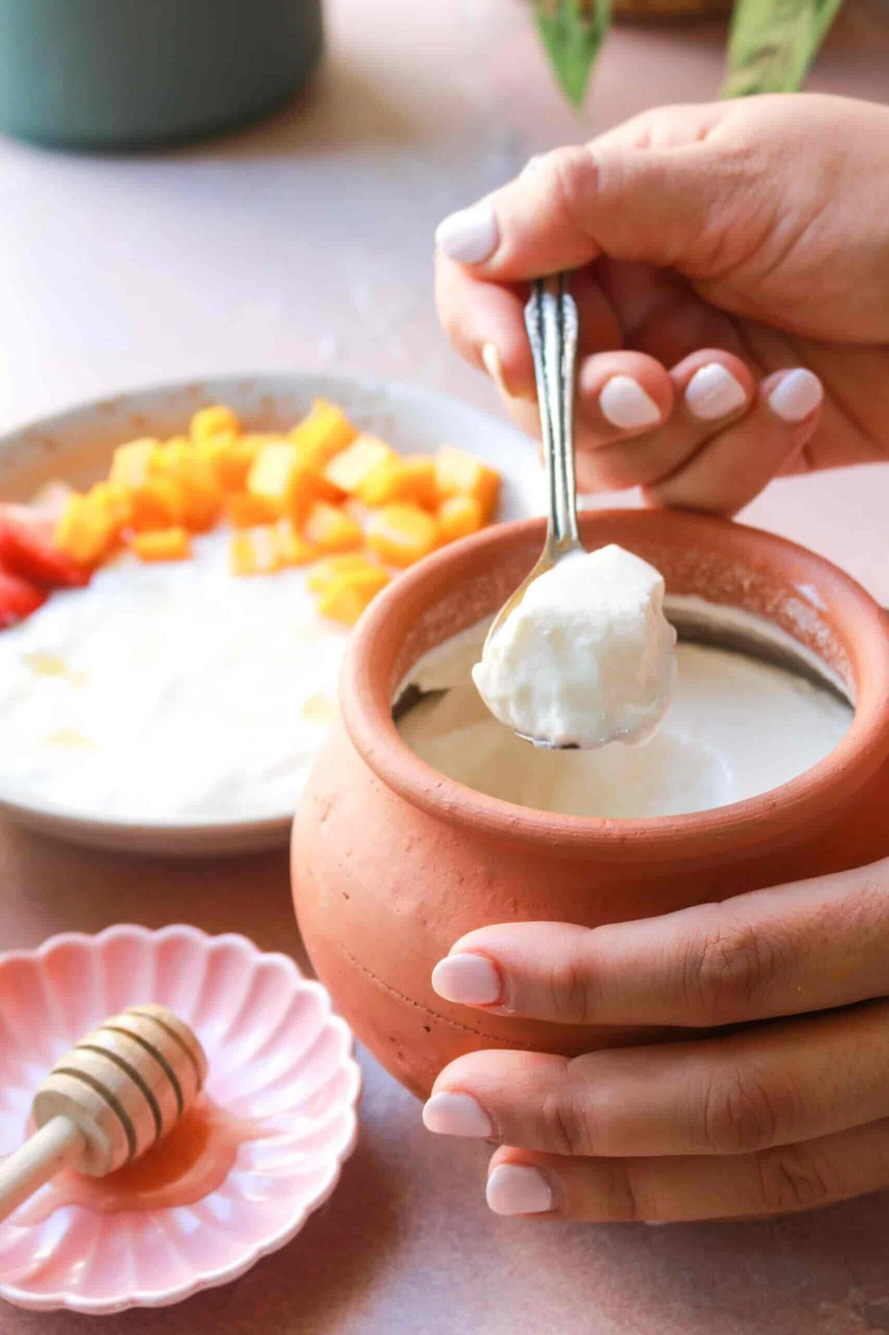yogurt: (380, 505, 851, 833)
